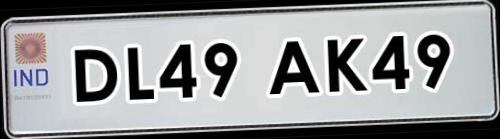plate: (11, 3, 500, 125)
